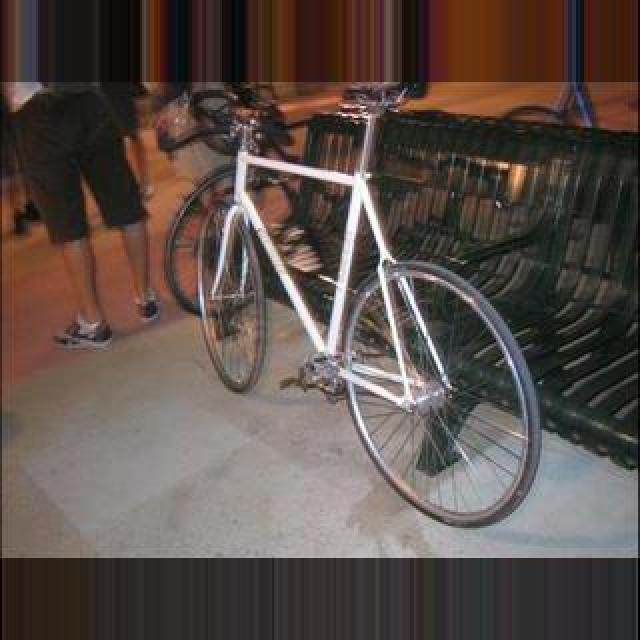Person: (178, 90, 548, 534)
